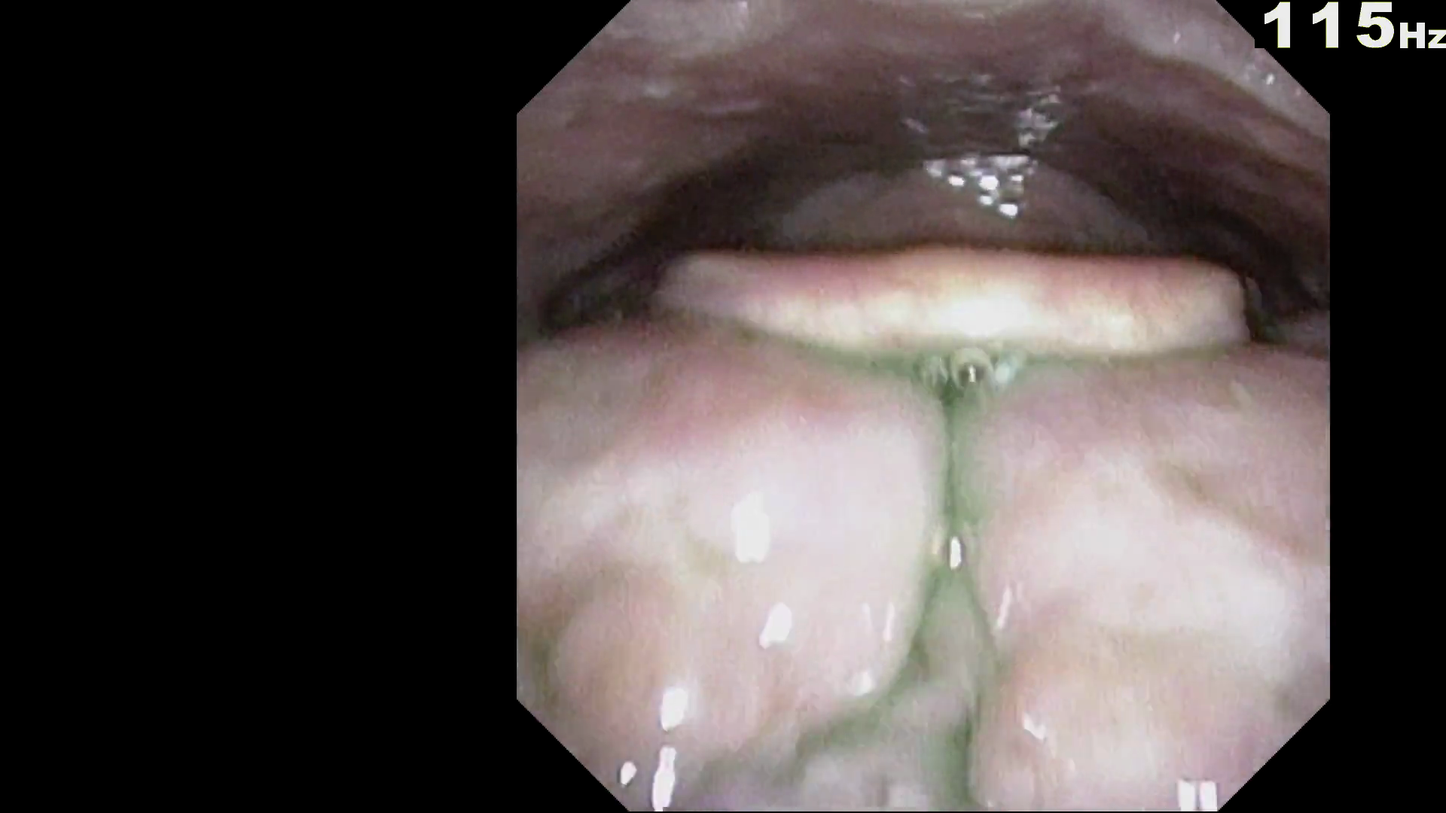epiglottis: (582, 289, 1293, 419)
trachea: (859, 355, 1045, 447), (935, 342, 1049, 471)
